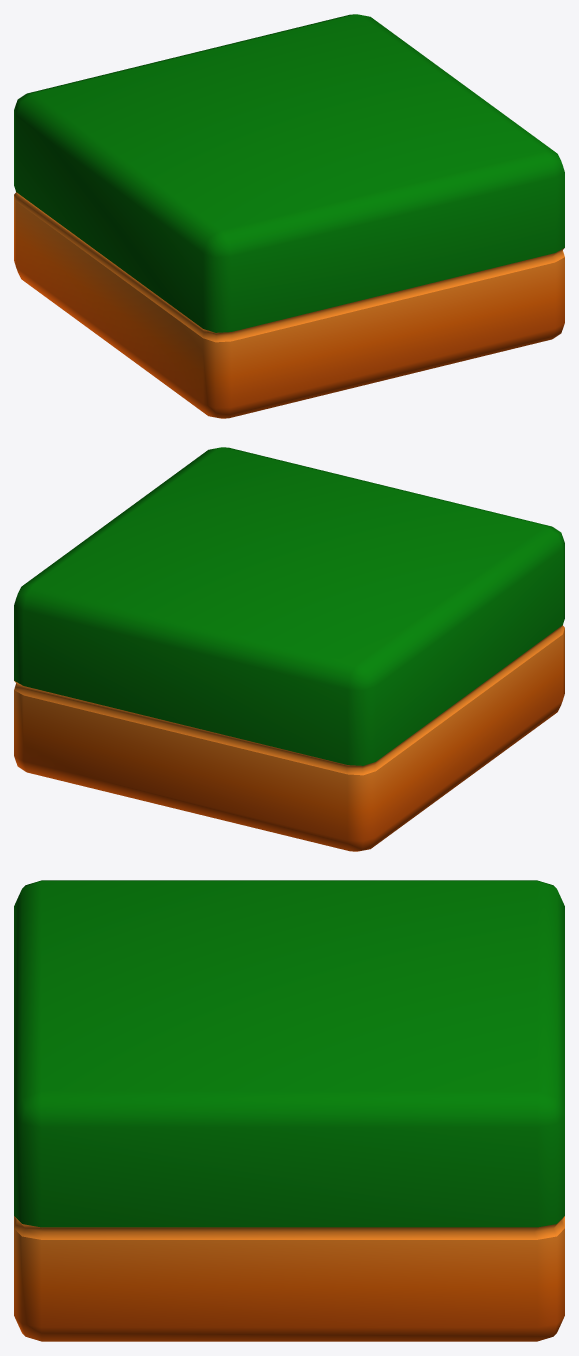
File: 3D_Tile_Ground_01Av02.fbx
The picture shows the model from 3 angles, top to bottom: view 1: azimuth 30°, elevation 25°; view 2: azimuth 150°, elevation 25°; view 3: azimuth 270°, elevation 25°; orthographic projection. The views are drawn at different scales.
Parts seen in each view (by area): view 1: 3D_Tile_Ground_01Av02; view 2: 3D_Tile_Ground_01Av02; view 3: 3D_Tile_Ground_01Av02.
Part boxes in pixels (x1,y1,x2,y2): 3D_Tile_Ground_01Av02: (14,14,564,418); 3D_Tile_Ground_01Av02: (14,447,564,851); 3D_Tile_Ground_01Av02: (14,880,564,1341).
Bounding box in the file's own units: 200 × 100 × 200.
